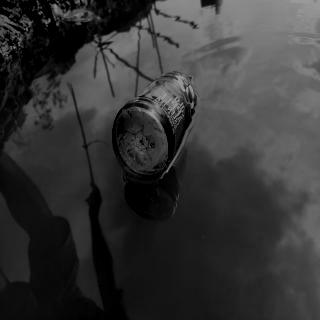bottle: (110, 64, 199, 186)
